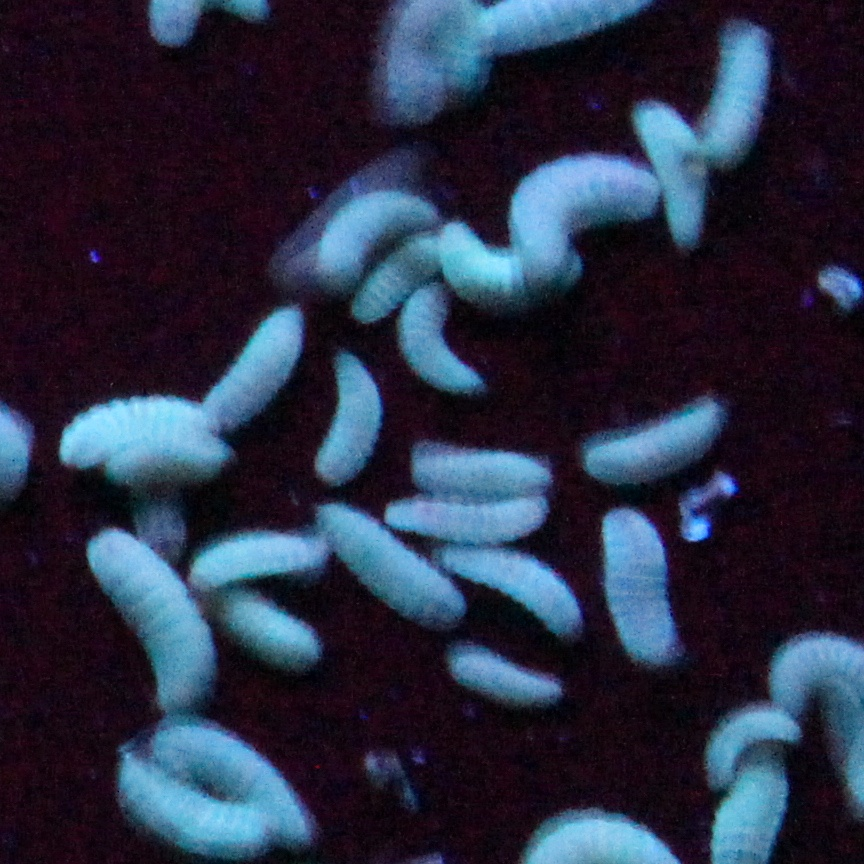larve: (82, 528, 242, 716), (310, 504, 462, 628), (162, 724, 326, 832), (590, 512, 694, 668), (110, 754, 282, 844), (530, 160, 658, 272), (442, 556, 586, 640), (214, 312, 310, 428), (306, 196, 426, 284), (58, 400, 210, 468), (582, 408, 738, 472), (398, 280, 482, 396), (638, 104, 718, 224), (702, 32, 770, 152), (313, 356, 378, 480), (706, 700, 794, 784), (226, 592, 322, 668), (426, 452, 542, 500), (386, 504, 558, 536), (386, 668, 586, 684)
